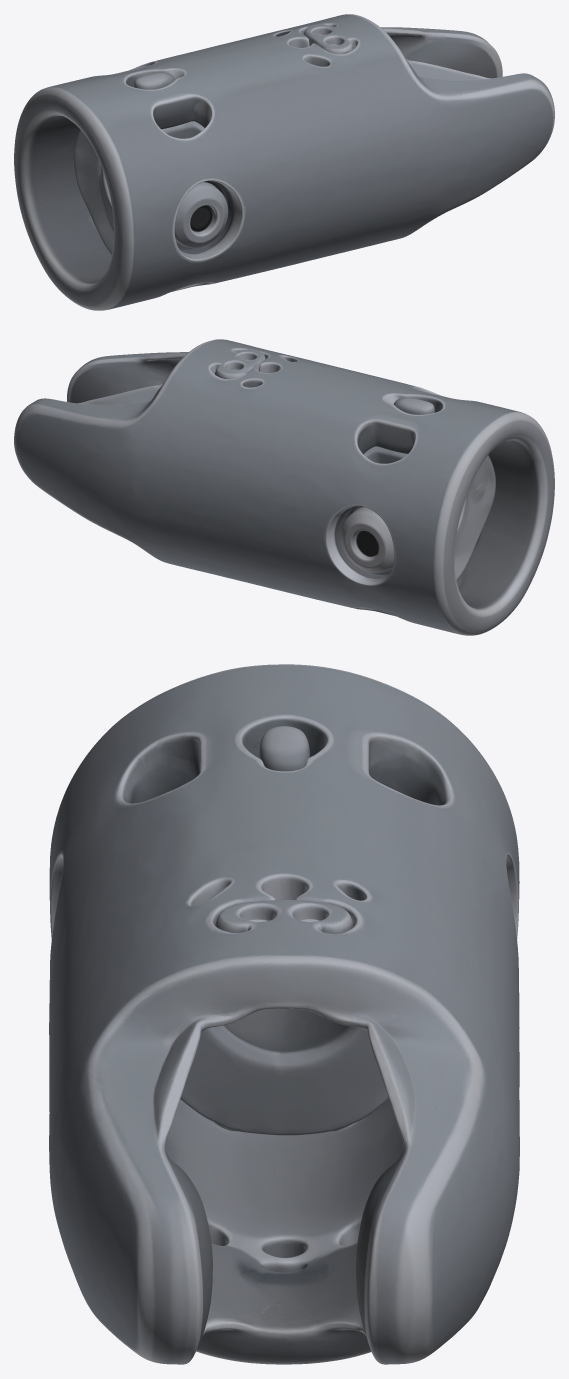
File: Meshy_AI_Silver_Swivel_Connector_20261107_texture.fbx
3 views of the same model, one above another, from view 1: azimuth 30°, elevation 25°; view 2: azimuth 150°, elevation 25°; view 3: azimuth 270°, elevation 25° (orthographic). The views are drawn at different scales.
Parts seen in each view (by area): view 1: Mesh_0; view 2: Mesh_0; view 3: Mesh_0.
Part boxes in pixels (x1,y1,x2,y2): Mesh_0: (14,14,554,310); Mesh_0: (14,339,554,635); Mesh_0: (49,664,519,1364).
Size of the model in its own units: 190 by 81.76 by 84.74.
Materials: 1 (1 with a texture image).
